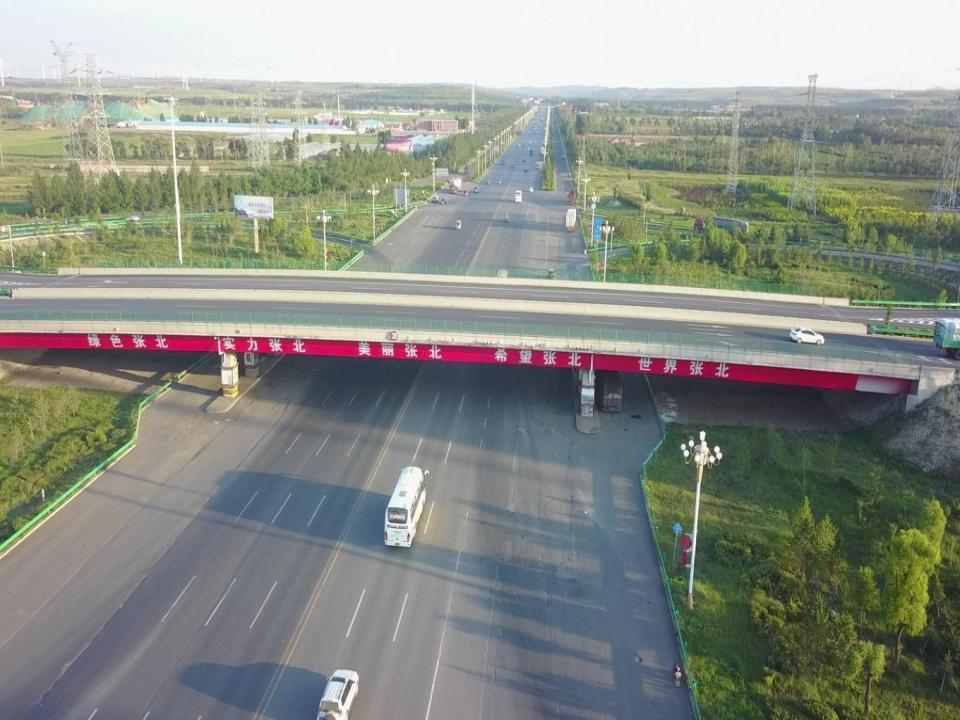bus: (387, 467, 428, 547), (495, 268, 509, 298), (515, 189, 521, 202)
car: (317, 669, 359, 720), (788, 326, 824, 347), (547, 268, 556, 280), (454, 220, 462, 230), (432, 195, 439, 203), (473, 185, 479, 194), (462, 189, 469, 196), (439, 199, 448, 204), (504, 214, 509, 222), (449, 177, 455, 183), (500, 159, 505, 166), (529, 186, 533, 192), (496, 179, 502, 183), (486, 179, 490, 184), (510, 164, 514, 168), (526, 146, 530, 150), (524, 168, 527, 173), (528, 140, 531, 145), (522, 158, 525, 162), (562, 154, 565, 158), (522, 142, 524, 147), (518, 143, 520, 147), (526, 130, 528, 133)
truck: (596, 341, 622, 415), (936, 320, 960, 356), (566, 208, 577, 233), (449, 180, 462, 194), (464, 162, 476, 174), (566, 189, 574, 205), (529, 149, 533, 156)
